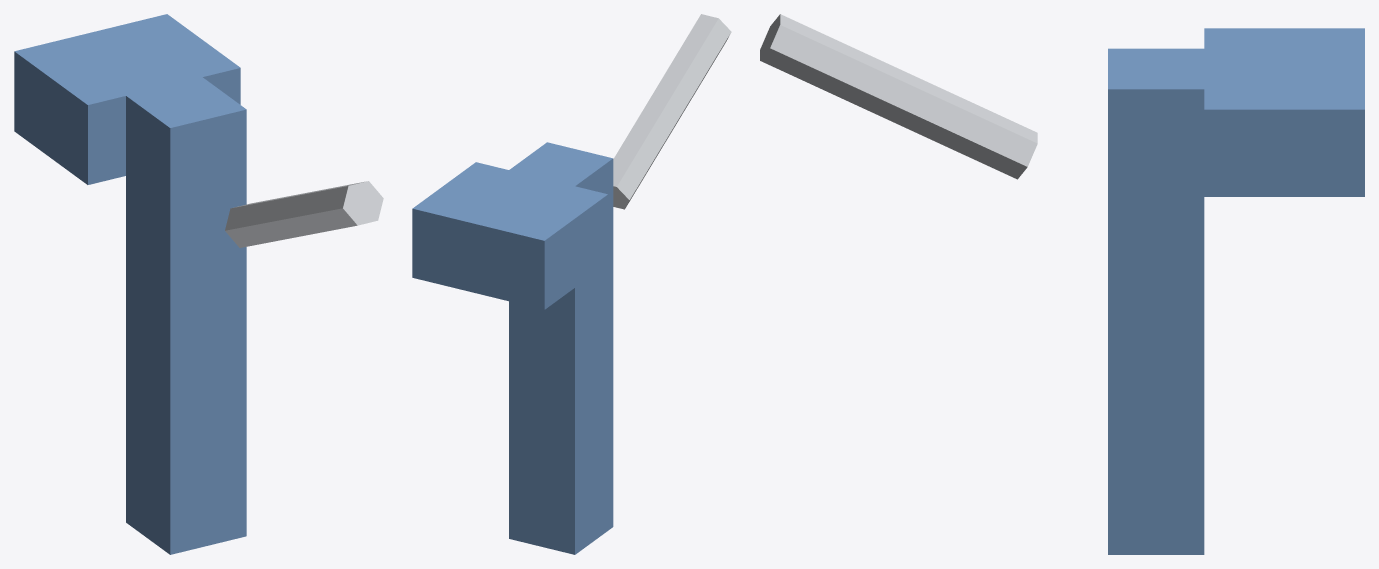
The model's file is hoof-pick.glb.
3 renders of one model, left to right at view 1: azimuth 30°, elevation 25°; view 2: azimuth 150°, elevation 25°; view 3: azimuth 270°, elevation 25°, orthographic. The views are drawn at different scales.
Visible parts, largest first — view 1: hoof-pick; view 2: hoof-pick; view 3: hoof-pick.
Boxes of the visible parts, <box> form: hoof-pick: <box>14,14,383,554</box>; hoof-pick: <box>412,14,731,554</box>; hoof-pick: <box>760,14,1364,554</box>.
Size of the model in its own units: 0.06 by 0.177 by 0.1884.
